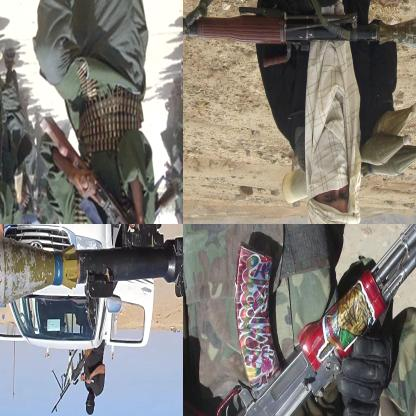rifle: (183, 224, 415, 415), (183, 0, 415, 70), (0, 224, 182, 309), (41, 118, 182, 223), (52, 348, 92, 414)
